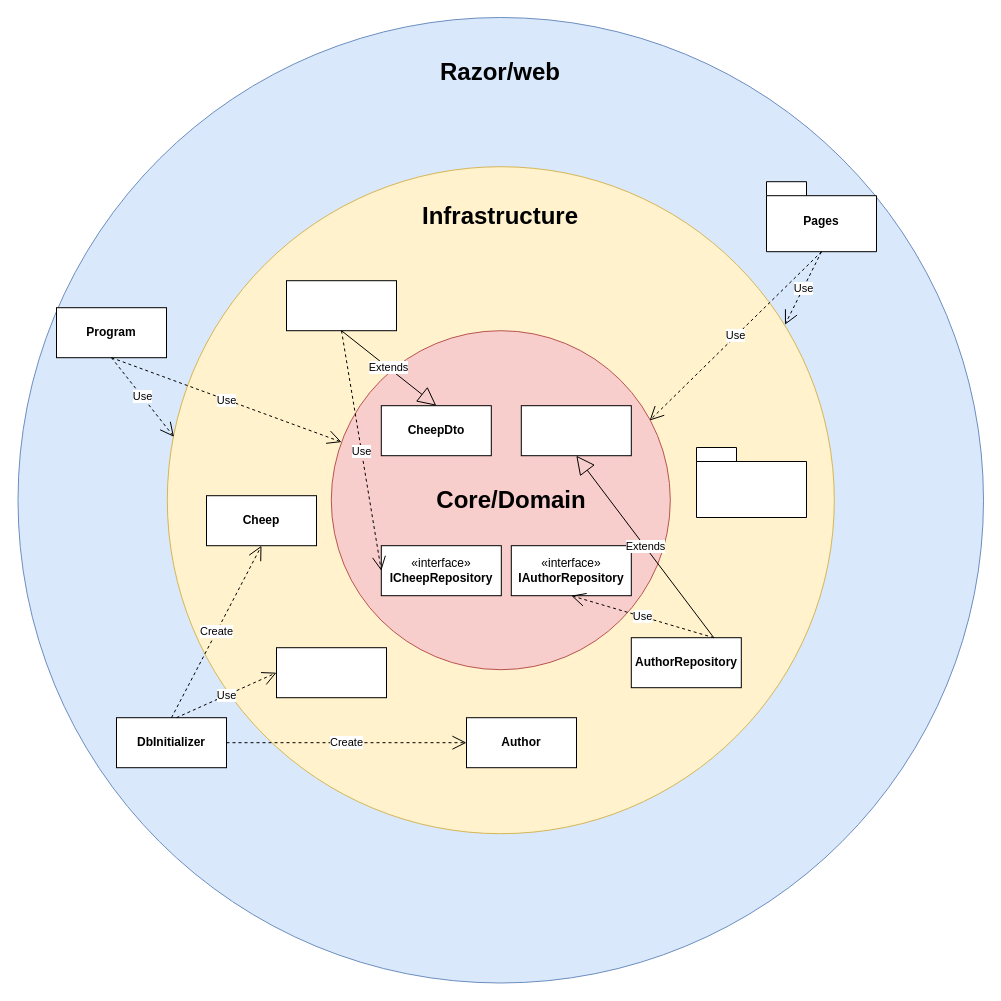
This 1001x1001 diagram has some shape labels left out. Each missing label, with the centre of its shape:
"AuthorDto" belongs at (575,430).
"CheepRepository" belongs at (341,305).
"ChirpContext" belongs at (331,672).
"Migrations" belongs at (751,482).
